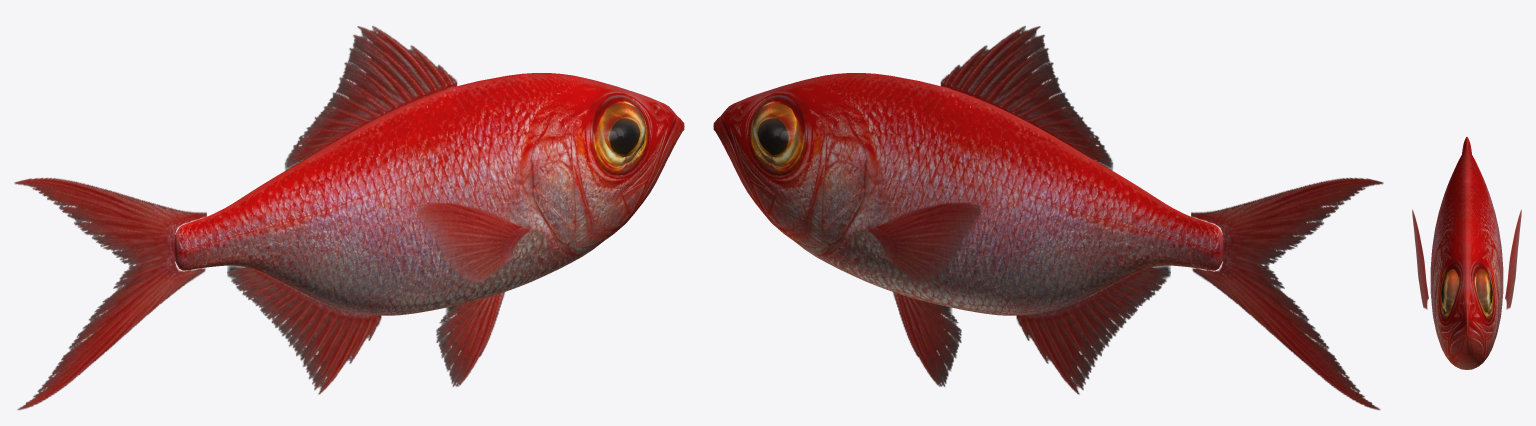
The model's file is kinmedai.glb.
3 renders of one model, left to right at view 1: azimuth 30°, elevation 25°; view 2: azimuth 150°, elevation 25°; view 3: azimuth 270°, elevation 25°, orthographic. The views are drawn at different scales.
Visible parts, largest first — view 1: kinmedai; view 2: kinmedai; view 3: kinmedai.
Boxes of the visible parts, bbox=[...] form: kinmedai: bbox=[14, 26, 684, 409]; kinmedai: bbox=[713, 26, 1383, 409]; kinmedai: bbox=[1412, 137, 1521, 369].
Bounding box in the file's own units: 0.3505 × 0.1925 × 0.0677.
1 material, 1 textured.
